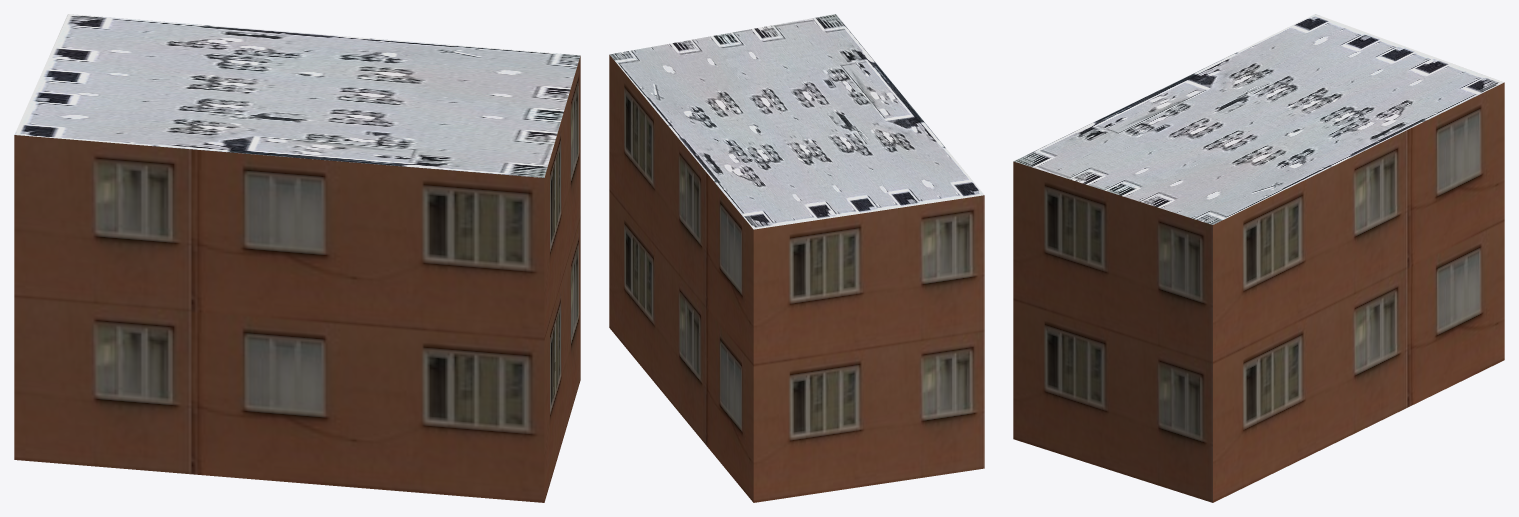
File: ResTex__1621.fbx
3 views of the same model, side by side, from view 1: azimuth 30°, elevation 25°; view 2: azimuth 150°, elevation 25°; view 3: azimuth 270°, elevation 25° (orthographic). The views are drawn at different scales.
Visible parts, largest first — view 1: CityEngineMaterial_20_m, CityEngineMaterial_8_m; view 2: CityEngineMaterial_20_m, CityEngineMaterial_8_m; view 3: CityEngineMaterial_20_m, CityEngineMaterial_8_m.
Boxes of the visible parts, x1,y1,x2,y2 form: CityEngineMaterial_20_m: [14, 56, 580, 502]; CityEngineMaterial_8_m: [14, 14, 580, 177]; CityEngineMaterial_20_m: [609, 55, 984, 502]; CityEngineMaterial_8_m: [609, 14, 984, 229]; CityEngineMaterial_20_m: [1013, 82, 1504, 502]; CityEngineMaterial_8_m: [1014, 14, 1503, 224].
Size of the model in its own units: 9.78 by 6 by 9.61.
Materials: 2 (2 with a texture image).
